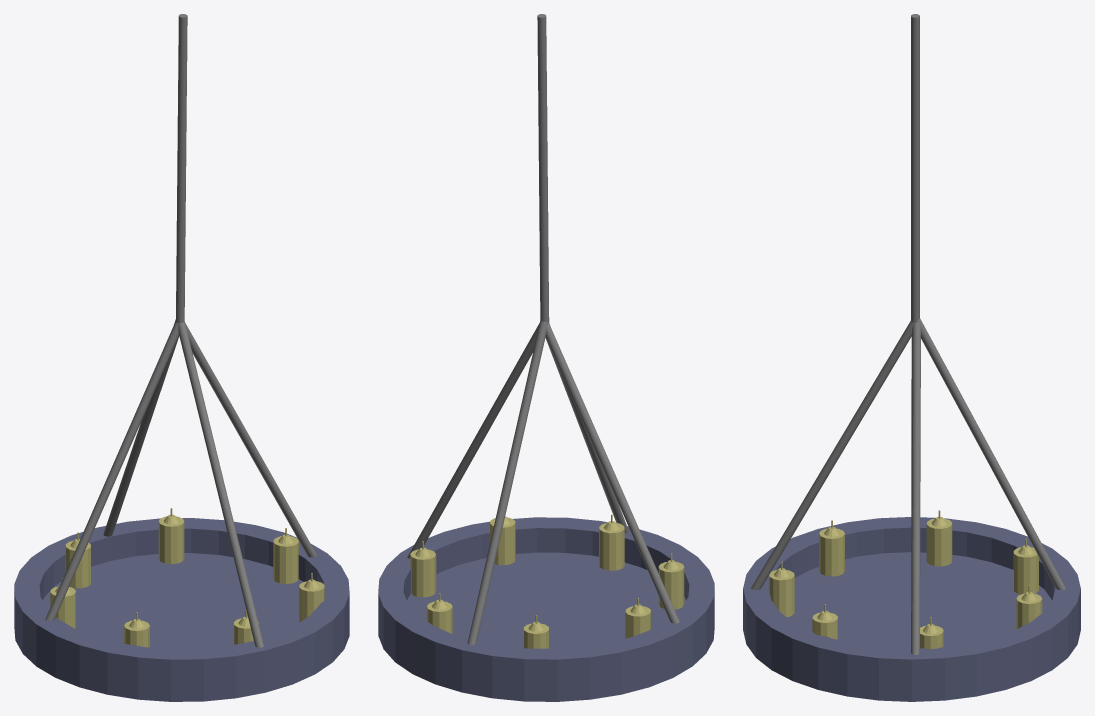
File: Candelabro.fbx
The picture shows the model from 3 angles, left to right: view 1: azimuth 30°, elevation 25°; view 2: azimuth 150°, elevation 25°; view 3: azimuth 270°, elevation 25°; orthographic projection.
Parts seen in each view (by area): view 1: Candelabro; view 2: Candelabro; view 3: Candelabro.
Part boxes in pixels (<box>): Candelabro: <box>14,14,349,701</box>; Candelabro: <box>378,14,714,701</box>; Candelabro: <box>743,14,1080,701</box>.
Bounding box in the file's own units: 200 × 403 × 200.
